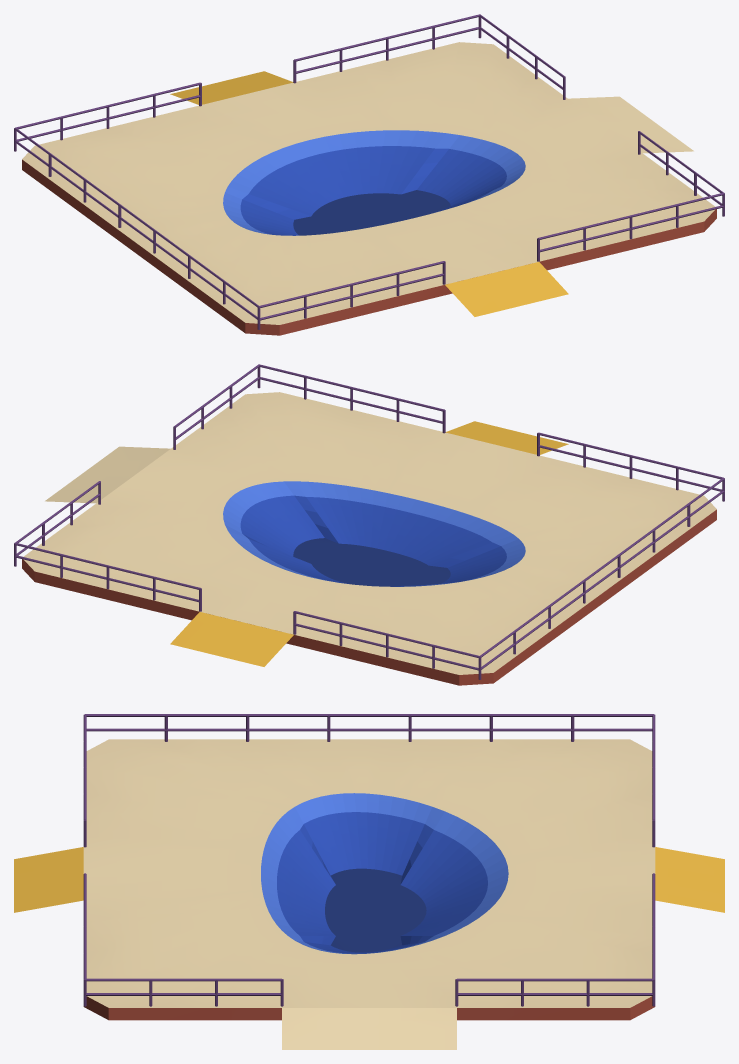
File: skate.glb
The picture shows the model from 3 angles, top to bottom: view 1: azimuth 30°, elevation 25°; view 2: azimuth 150°, elevation 25°; view 3: azimuth 270°, elevation 25°; orthographic projection. The views are drawn at different scales.
Visible parts, largest first — view 1: skate; view 2: skate; view 3: skate.
Part boxes in pixels (x1=…): skate: x1=14, y1=14, x2=724, y2=335; skate: x1=14, y1=364, x2=724, y2=685; skate: x1=14, y1=714, x2=724, y2=1049.
Bounding box in the file's own units: 22.2 × 2.22 × 22.38.
